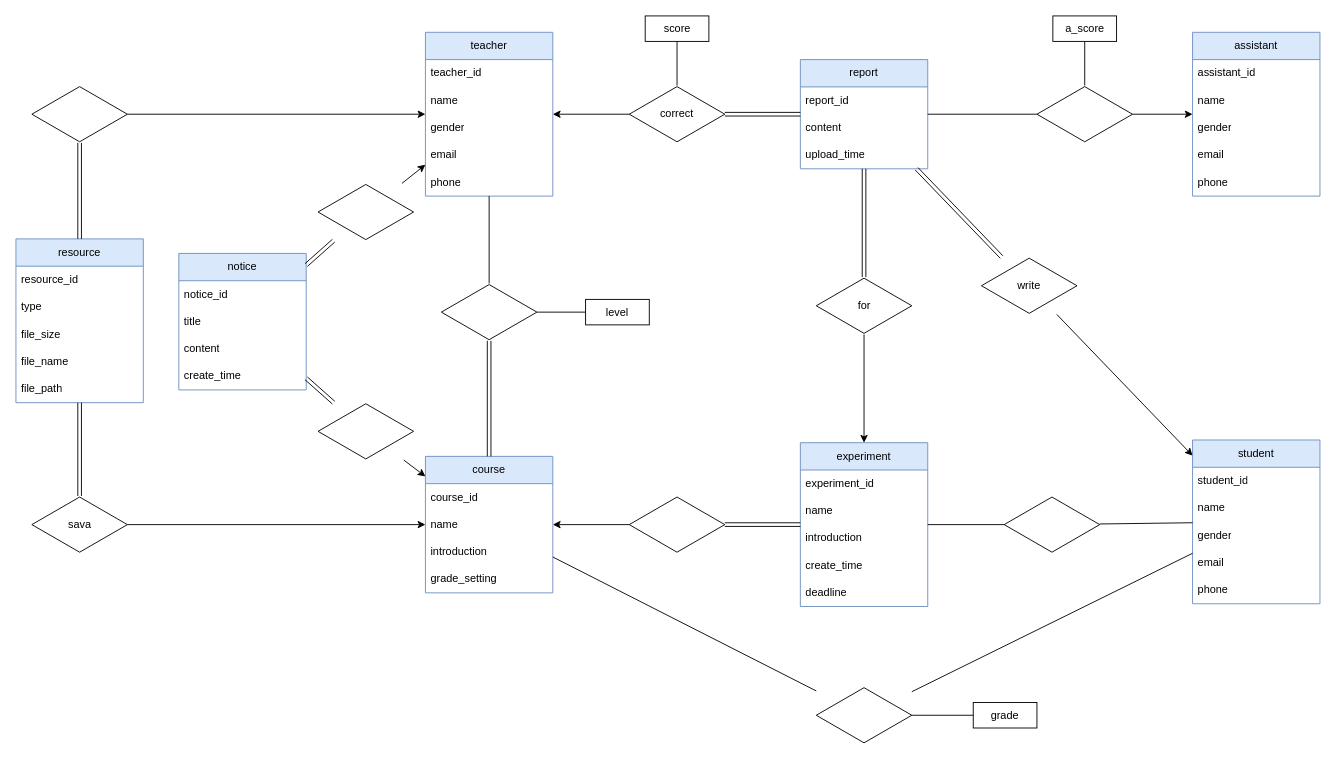
Image size: 1336x760. Some labels were removed from this diagram. Here are the shapes that lost their labels. From the top down, the centre of each, then its label:
At (79,114): "upload".
At (1084,114): "help_correct".
At (365,211): "edit".
At (488,312): "teach".
At (365,431): "publish".
At (676,524): "contain".
At (1051,524): "conduct".
At (863,715): "join".
